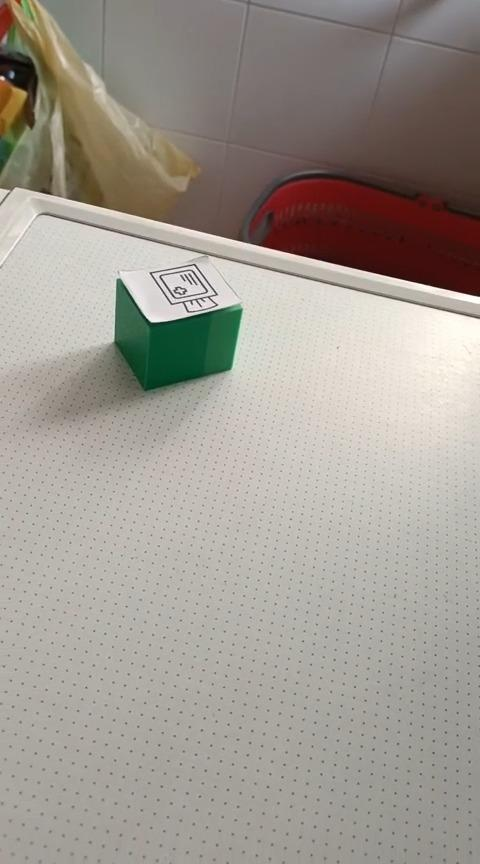Gauze: (112, 253, 243, 391)
